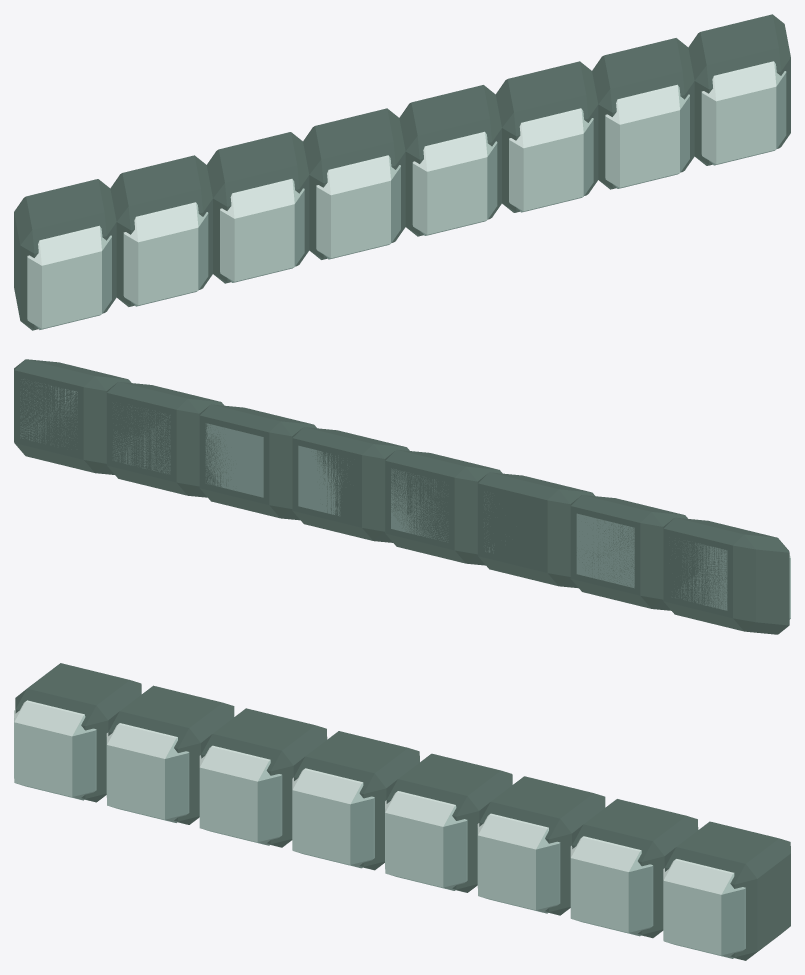
The model's file is Terrain_Block8x1.gltf.
3 views of the same model, one above another, from view 1: azimuth 30°, elevation 25°; view 2: azimuth 150°, elevation 25°; view 3: azimuth 330°, elevation 25° (orthographic). The views are drawn at different scales.
Parts seen in each view (by area): view 1: Terrain_Block8x1_baked; view 2: Terrain_Block8x1_baked; view 3: Terrain_Block8x1_baked.
Part boxes in pixels (x1=…): Terrain_Block8x1_baked: x1=14, y1=14, x2=790, y2=330; Terrain_Block8x1_baked: x1=14, y1=359, x2=790, y2=634; Terrain_Block8x1_baked: x1=14, y1=663, x2=790, y2=960.
Size of the model in its own units: 8.15 by 1.15 by 0.7.
